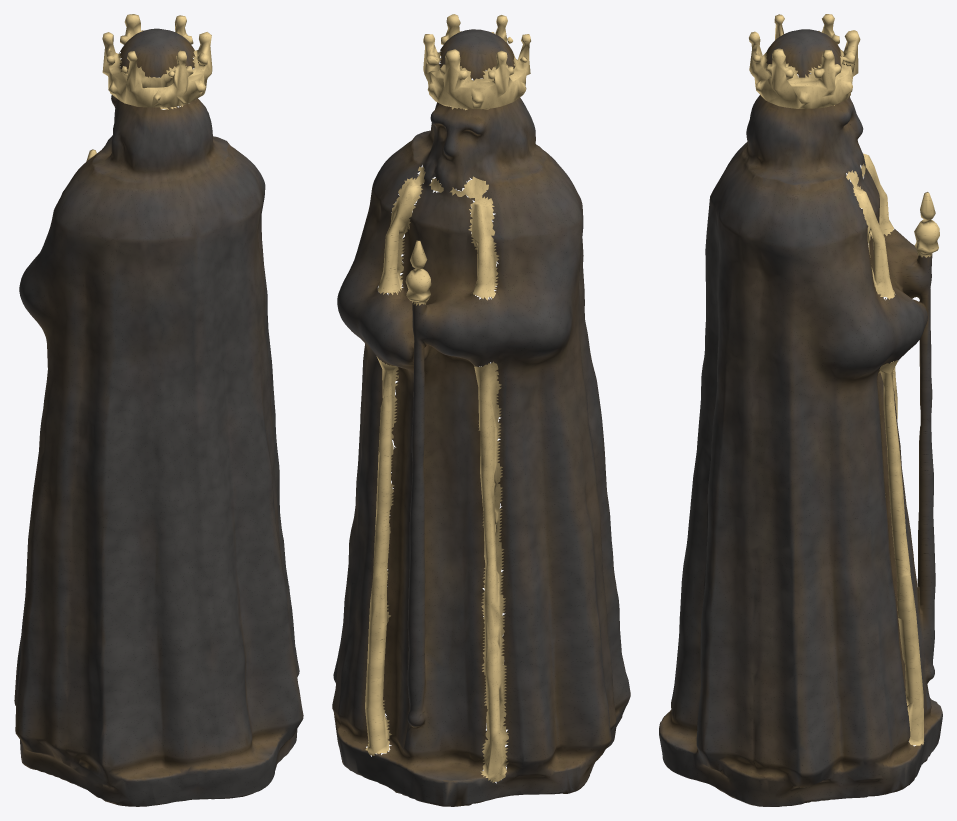
The model's file is king-black-hd.glb.
3 renders of one model, left to right at view 1: azimuth 30°, elevation 25°; view 2: azimuth 150°, elevation 25°; view 3: azimuth 270°, elevation 25°, orthographic.
Parts seen in each view (by area): view 1: Argent Reliquary – Black King; view 2: Argent Reliquary – Black King; view 3: Argent Reliquary – Black King.
Part boxes in pixels (box(x1,y1,x2,y2)): Argent Reliquary – Black King: box(14, 14, 303, 806); Argent Reliquary – Black King: box(332, 14, 630, 806); Argent Reliquary – Black King: box(659, 14, 942, 806).
Size of the model in its own units: 0.6626 by 1.65 by 0.5885.
Materials: 2 (2 with a texture image).
